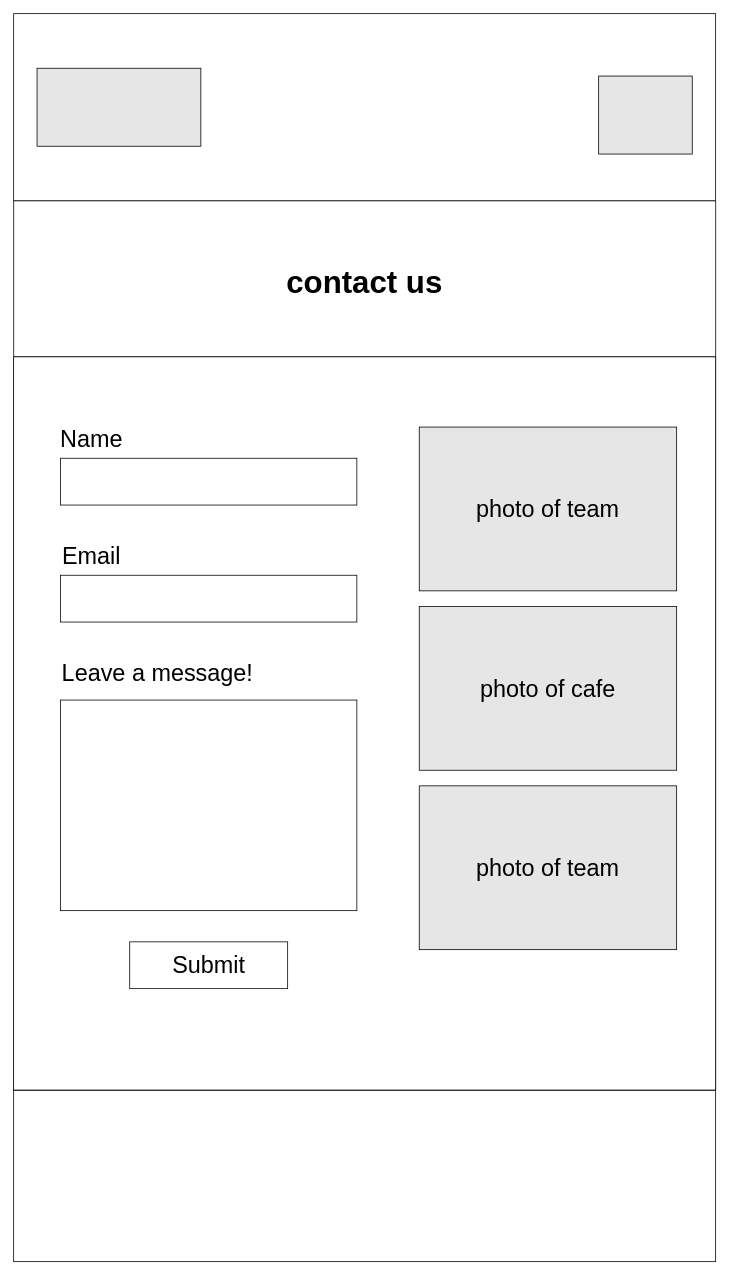
This 729x1275 diagram has some shape labels left out. The centre of each missing label's shape, as x and y in pixels:
Cafe Hoppers logo: (x=118, y=106)
footer content: (x=364, y=1175)
menu icon: (x=645, y=114)
